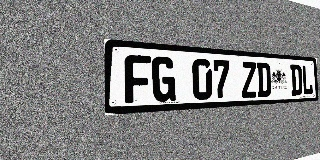0: (192, 58, 212, 100)
7: (212, 60, 230, 99)
D: (256, 62, 271, 97), (290, 64, 302, 96)
F: (124, 54, 151, 103)
G: (152, 56, 176, 102)
L: (302, 65, 313, 95)
Z: (241, 61, 257, 98)
